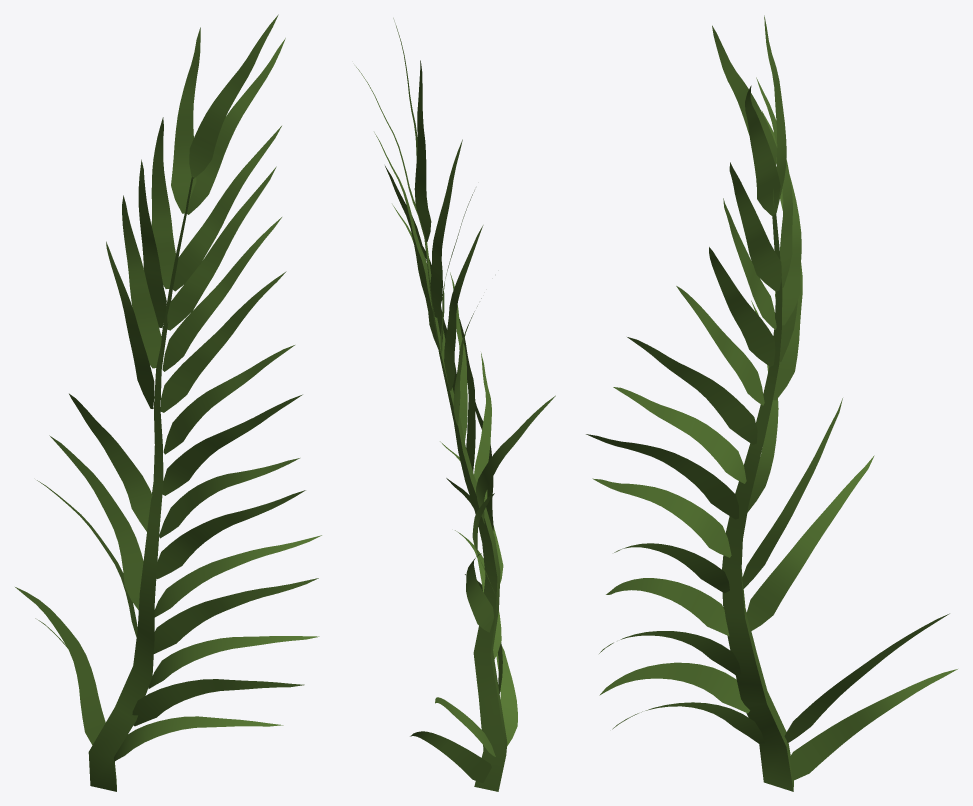
Rendered from plant_swamp_kelp_floor_D.fbx.
The picture shows the model from 3 angles, left to right: view 1: azimuth 30°, elevation 25°; view 2: azimuth 150°, elevation 25°; view 3: azimuth 270°, elevation 25°; orthographic projection. The views are drawn at different scales.
Visible parts, largest first — view 1: plant_swamp_kelp_floor_D; view 2: plant_swamp_kelp_floor_D; view 3: plant_swamp_kelp_floor_D.
Part boxes in pixels (left/top/right/bottom): plant_swamp_kelp_floor_D: left=15, top=14, right=321, bottom=791; plant_swamp_kelp_floor_D: left=356, top=18, right=555, bottom=791; plant_swamp_kelp_floor_D: left=586, top=15, right=957, bottom=791.
Bounding box in the file's own units: 75.88 × 254 × 103.
